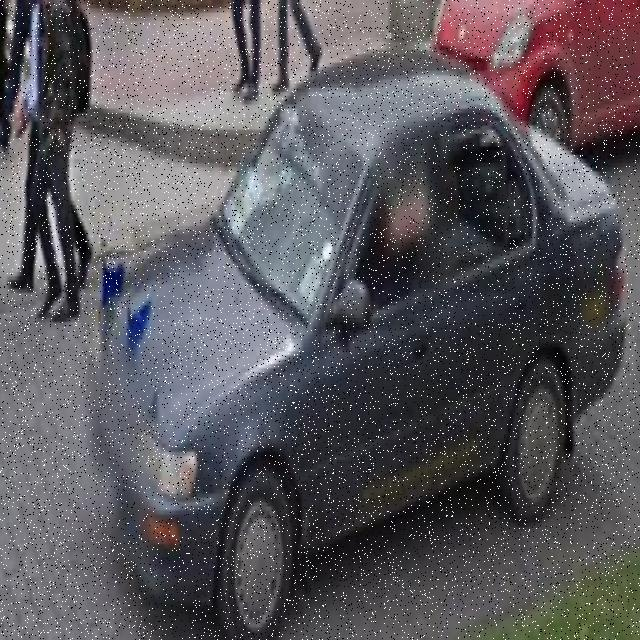cars: (79, 38, 630, 637)
